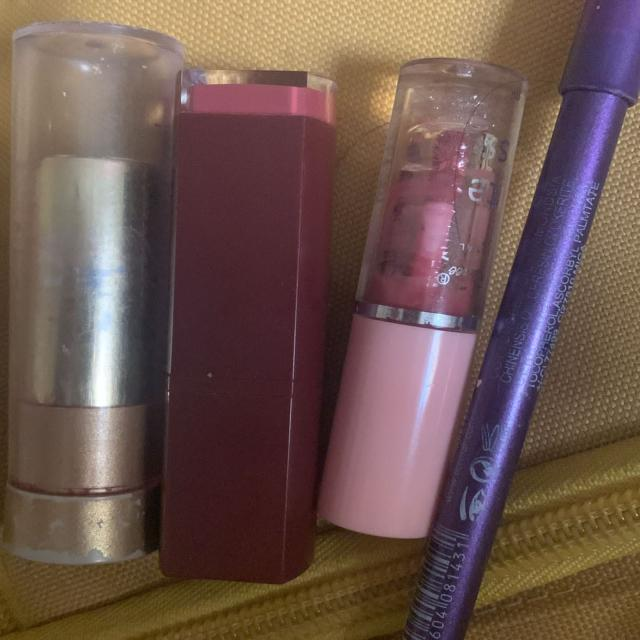lip gloss: (312, 38, 565, 580)
lip stick: (0, 19, 345, 586)
